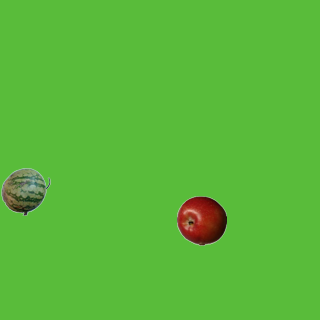Apple Braeburn: (176, 195, 226, 245)
Watermelon: (0, 166, 50, 216)
